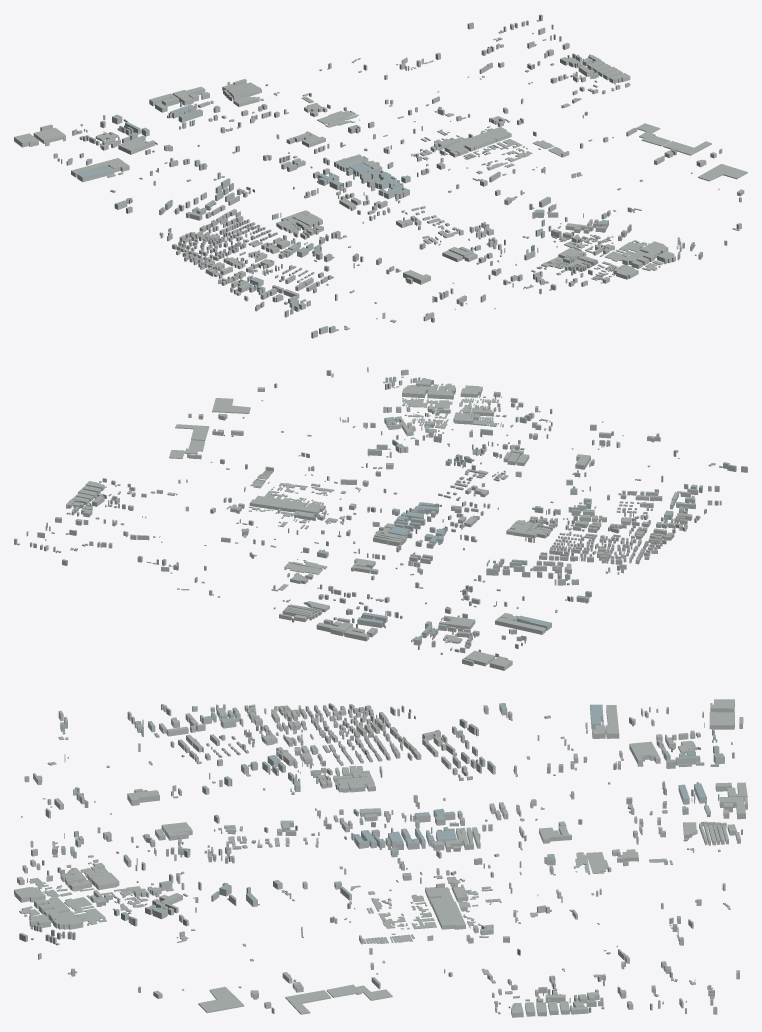
File: far.glb
The picture shows the model from 3 angles, top to bottom: view 1: azimuth 30°, elevation 25°; view 2: azimuth 150°, elevation 25°; view 3: azimuth 270°, elevation 25°; orthographic projection. The views are drawn at different scales.
Size of the model in its own units: 2155 by 24.6 by 2135.
